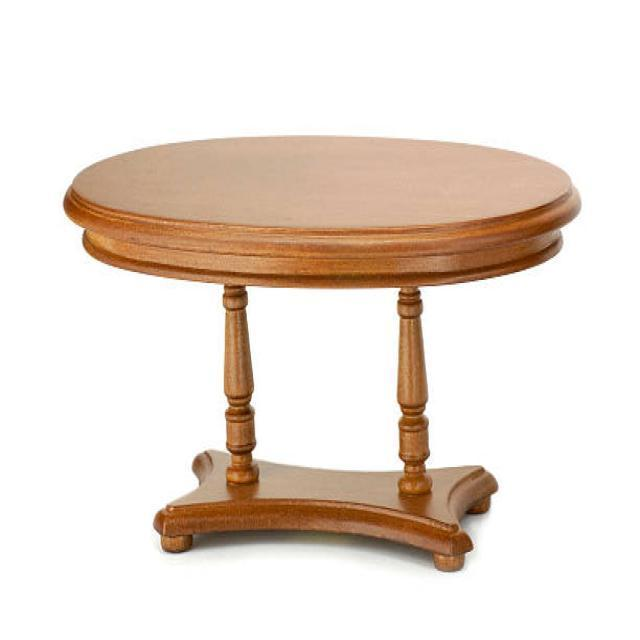table: (61, 132, 582, 571)
